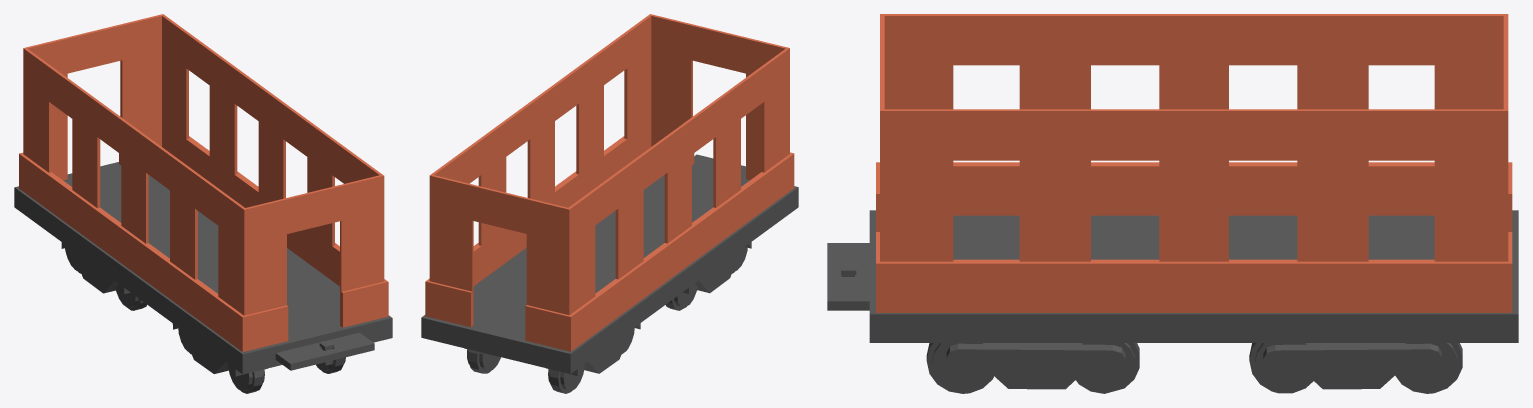
Rendered from Wagon_LowHeat.fbx.
3 views of the same model, side by side, from view 1: azimuth 30°, elevation 25°; view 2: azimuth 150°, elevation 25°; view 3: azimuth 270°, elevation 25° (orthographic). The views are drawn at different scales.
Parts seen in each view (by area): view 1: Wagon_LowHeat; view 2: Wagon_LowHeat; view 3: Wagon_LowHeat.
Boxes of the visible parts, left/top/right/bottom form: Wagon_LowHeat: left=14, top=14, right=392, bottom=393; Wagon_LowHeat: left=421, top=14, right=798, bottom=393; Wagon_LowHeat: left=827, top=14, right=1518, bottom=393.
Size of the model in its own units: 338 by 453 by 950.
